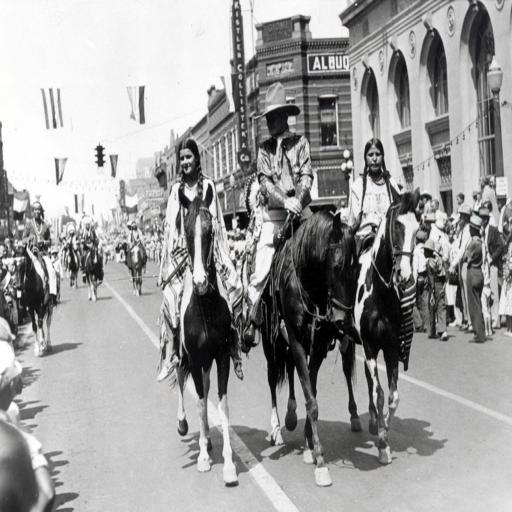horse: (257, 206, 363, 486), (158, 184, 232, 483), (350, 180, 422, 464), (8, 244, 56, 356), (82, 238, 102, 301), (124, 241, 146, 297)
